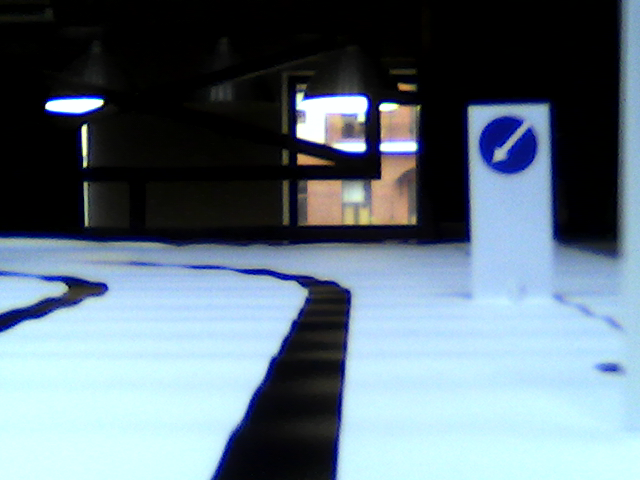prep: (476, 113, 541, 178)
